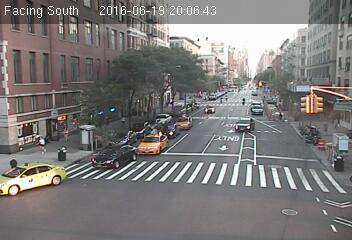neg: (138, 124, 169, 167), (295, 88, 325, 127), (260, 137, 289, 176), (50, 88, 78, 124), (321, 133, 347, 168), (80, 158, 105, 190), (178, 65, 202, 97), (130, 45, 154, 76), (247, 39, 270, 69), (209, 82, 231, 111), (249, 196, 270, 225), (116, 190, 137, 217), (232, 114, 252, 140), (167, 166, 187, 191), (22, 175, 41, 200), (283, 196, 302, 221), (219, 164, 236, 186), (290, 39, 306, 61), (89, 54, 104, 74)
